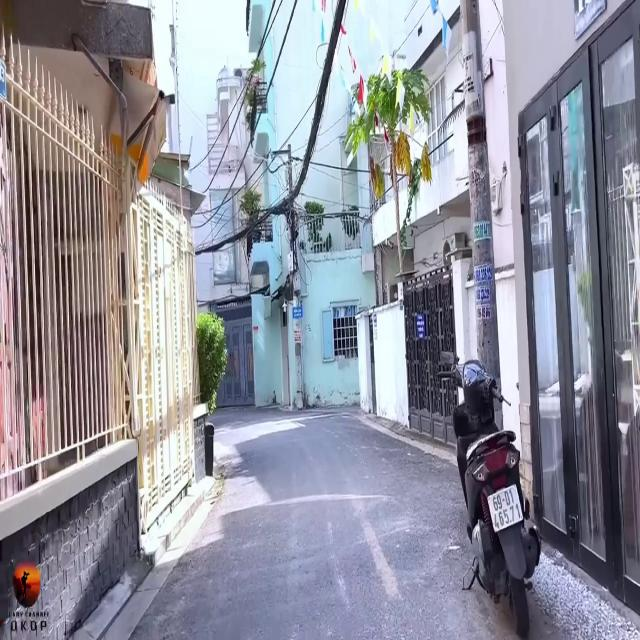bien_trang: (485, 486, 526, 533)
